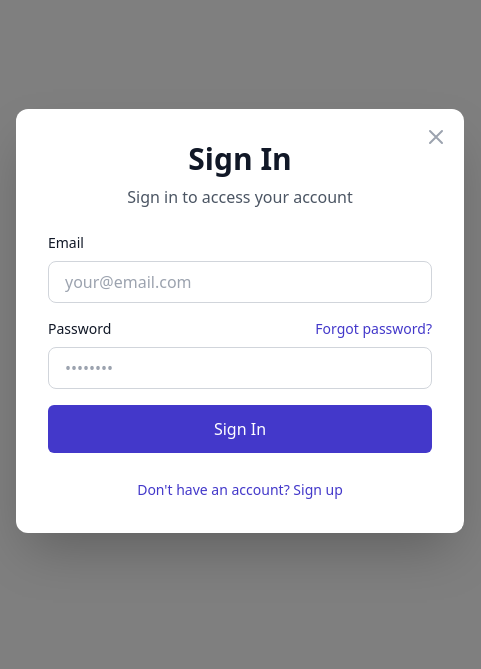
Test: AuthModal › switches between sign in and sign up modes
The image size is (481, 669).
Expected: the heading "Sign In" is shown, [188,138,292,179]
Step 1. Click the button "Don't have an account? Sign up" → (240, 490), box [137,480,343,500]
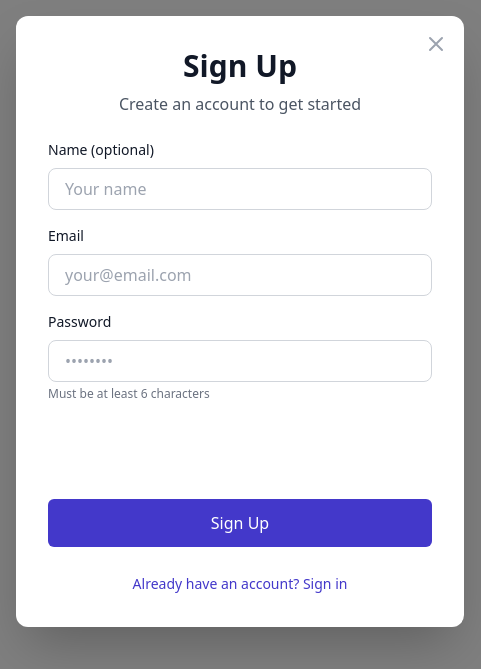
Result: the heading "Sign Up" is shown at [183,44,297,86]
